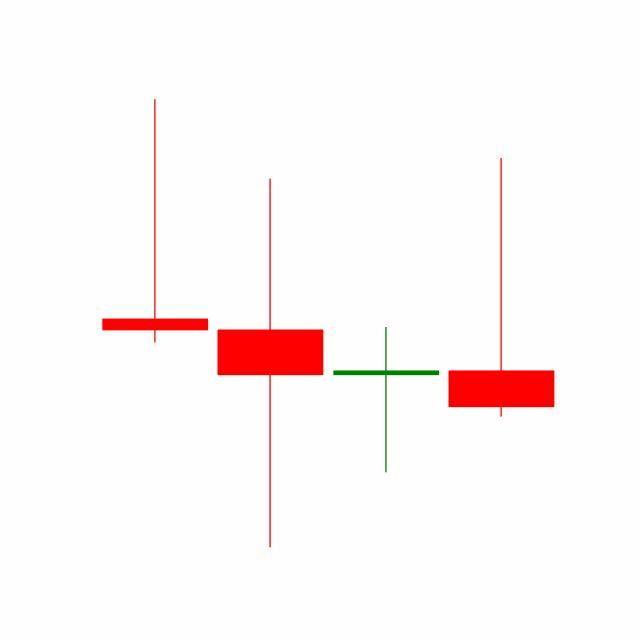Spinning Top: (329, 326, 445, 475)
